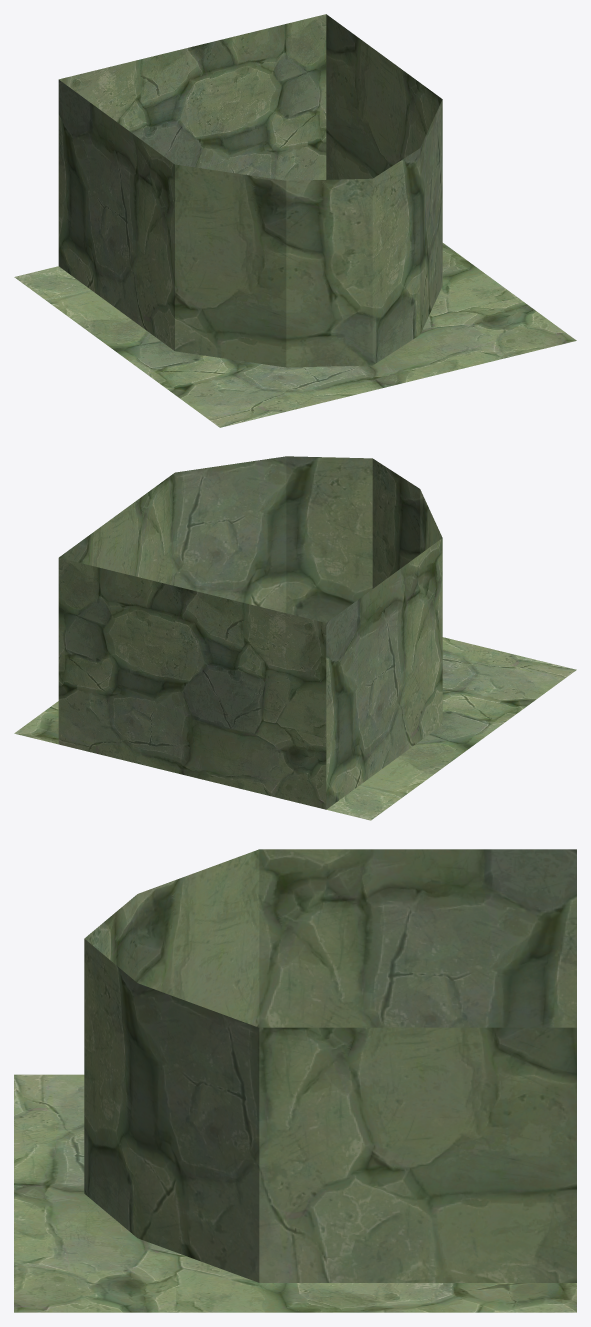
File: Ruins_Wall_Door_8Mx8M_A.fbx
3 views of the same model, one above another, from view 1: azimuth 30°, elevation 25°; view 2: azimuth 150°, elevation 25°; view 3: azimuth 270°, elevation 25° (orthographic). The views are drawn at different scales.
Visible parts, largest first — view 1: Ruins_Wall_Door_8Mx8M_A; view 2: Ruins_Wall_Door_8Mx8M_A; view 3: Ruins_Wall_Door_8Mx8M_A.
Part boxes in pixels (x1=…): Ruins_Wall_Door_8Mx8M_A: x1=14, y1=14, x2=576, y2=427; Ruins_Wall_Door_8Mx8M_A: x1=14, y1=456, x2=576, y2=820; Ruins_Wall_Door_8Mx8M_A: x1=14, y1=849, x2=576, y2=1312.
Size of the model in its own units: 800 by 400 by 800.
